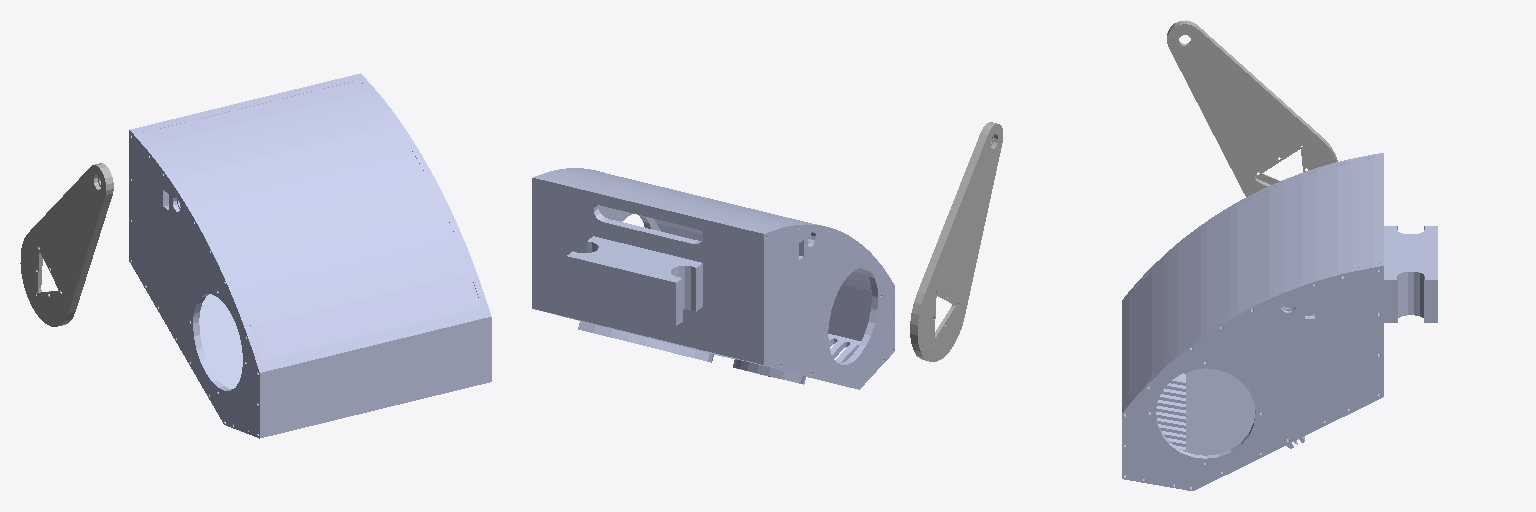
The robot description file, URDF, robot "sbr_urdf_modified1":
<?xml version="1.0" encoding="utf-8"?>
<!-- This URDF was automatically created by SolidWorks to URDF Exporter! Originally created by [author] ([email redacted]) 
     Commit Version: 1.6.0-4-g7f85cfe  Build Version: 1.6.7995.38578
     For more information, please see http://wiki.ros.org/sw_urdf_exporter -->
<robot
  name="sbr_urdf_modified1">
  <link
    name="base_link">
    <inertial>
      <origin
        xyz="-2.7656E-05 0.2277 0.058361"
        rpy="0 0 0" />
      <mass
        value="6.0193" />
      <inertia
        ixx="0.056171"
        ixy="6.0708E-07"
        ixz="-1.5535E-06"
        iyy="0.063954"
        iyz="-0.01956"
        izz="0.079553" />
    </inertial>
    <visual>
      <origin
        xyz="0 0 0"
        rpy="0 0 0" />
      <geometry>
        <mesh
          filename="package://sbr_urdf_modified1/meshes/base_link.STL" />
      </geometry>
      <material
        name="">
        <color
          rgba="0.79216 0.81961 0.93333 1" />
      </material>
    </visual>
    <collision>
      <origin
        xyz="0 0 0"
        rpy="0 0 0" />
      <geometry>
        <mesh
          filename="package://sbr_urdf_modified1/meshes/base_link.STL" />
      </geometry>
    </collision>
  </link>
  <link
    name="cont_1">
    <inertial>
      <origin
        xyz="-0.0059438 -0.050574 -0.071771"
        rpy="0 0 0" />
      <mass
        value="0.33847" />
      <inertia
        ixx="0.0029734"
        ixy="-1.3483E-06"
        ixz="-1.9134E-06"
        iyy="0.0018709"
        iyz="-0.001064"
        izz="0.0011107" />
    </inertial>
    <visual>
      <origin
        xyz="0 0 0"
        rpy="0 0 0" />
      <geometry>
        <mesh
          filename="package://sbr_urdf_modified1/meshes/cont_1.STL" />
      </geometry>
      <material
        name="">
        <color
          rgba="0.74902 0.74902 0.74902 1" />
      </material>
    </visual>
    <collision>
      <origin
        xyz="0 0 0"
        rpy="0 0 0" />
      <geometry>
        <mesh
          filename="package://sbr_urdf_modified1/meshes/cont_1.STL" />
      </geometry>
    </collision>
  </link>
  <joint
    name="cont_1j"
    type="revolute">
    <origin
      xyz="-0.197 0.11544 0.1"
      rpy="0 0 0" />
    <parent
      link="base_link" />
    <child
      link="cont_1" />
    <axis
      xyz="1 0 0" />
    <limit
      lower="-1.57"
      upper="1.57"
      effort="200"
      velocity="3" />
  </joint>
  <!-- <link
    name="Rleg_4">
    <inertial>
      <origin
        xyz="0.019595 -0.08507 0.087227"
        rpy="0 0 0" />
      <mass
        value="0.41509" />
      <inertia
        ixx="0.007393"
        ixy="-0.00012016"
        ixz="0.00012621"
        iyy="0.0038886"
        iyz="0.0035953"
        izz="0.0036625" />
    </inertial>
    <visual>
      <origin
        xyz="0 0 0"
        rpy="0 0 0" />
      <geometry>
        <mesh
          filename="package://sbr_urdf_modified1/meshes/Rleg_4.STL" />
      </geometry>
      <material
        name="">
        <color
          rgba="0.74902 0.74902 0.74902 1" />
      </material>
    </visual>
    <collision>
      <origin
        xyz="0 0 0"
        rpy="0 0 0" />
      <geometry>
        <mesh
          filename="package://sbr_urdf_modified1/meshes/Rleg_4.STL" />
      </geometry>
    </collision>
  </link>
  <joint
    name="Rleg_4j"
    type="revolute">
    <origin
      xyz="-0.012 -0.144 -0.20436"
      rpy="0 0 0" />
    <parent
      link="cont_1" />
    <child
      link="Rleg_4" />
    <axis
      xyz="1 0 0" />
    <limit
      lower="-1.57"
      upper="1.57"
      effort="0"
      velocity="0" />
  </joint>
  <link
    name="cran_2">
    <inertial>
      <origin
        xyz="-0.00068276 -0.073465 -0.043739"
        rpy="0 0 0" />
      <mass
        value="0.12244" />
      <inertia
        ixx="0.00053017"
        ixy="-7.3414E-06"
        ixz="-4.272E-06"
        iyy="0.00015583"
        iyz="-0.00022067"
        izz="0.00039566" />
    </inertial>
    <visual>
      <origin
        xyz="0 0 0"
        rpy="0 0 0" />
      <geometry>
        <mesh
          filename="package://sbr_urdf_modified1/meshes/cran_2.STL" />
      </geometry>
      <material
        name="">
        <color
          rgba="0.74902 0.74902 0.74902 1" />
      </material>
    </visual>
    <collision>
      <origin
        xyz="0 0 0"
        rpy="0 0 0" />
      <geometry>
        <mesh
          filename="package://sbr_urdf_modified1/meshes/cran_2.STL" />
      </geometry>
    </collision>
  </link>

  <transmission name="cont_1">
  <type>transmission_interface/SimpleTra
    name="cran_2j"
    type="revolute">
    <origin
      xyz="-0.195 0.22979 0.16409"
      rpy="3.1416 0 3.1416" />
    <parent
      link="base_link" />
    <child
      link="cran_2" />
    <axis
      xyz="1 0 0" />
    <limit
      lower="-1.57"

  <transmission name="cont_1">
  <type>transmission_interface/SimpleTra
        xyz="0.019595 -0.15432 0.15937"
        rpy="0 0 0" />
      <mass
        value="0.41509" />
      <inertia
        ixx="0.007393"
        ixy="-0.00012016"
        ixz="0.00012621"
        iyy="0.0038886"
        iyz="0.0035953"
        izz="0.0036625" />
    </inertial>
    <visual>
      <origin
        xyz="0 0 0"
        rpy="0 0 0" />
      <geometry>
        <mesh
          filename="package://sbr_urdf_modified1/meshes/Rleg_3.STL" />
      </geometry>
      <material
        name="">
        <color
          rgba="0.74902 0.74902 0.74902 1" />
      </material>
    </visual>
    <collision>
      <origin
        xyz="0 0 0"
        rpy="0 0 0" />
      <geometry>
        <mesh
          filename="package://sbr_urdf_modified1/meshes/Rleg_3.STL" />
      </geometry>
    </collision>
  </link>
  <joint
    name="Rleg_3j"
    type="revolute">
    <origin
      xyz="-0.01 -0.18911 -0.11242"
      rpy="0 0 0" />
    <parent
      link="cran_2" />
    <child
      link="Rleg_3" />
    <axis
      xyz="1 0 0" />
    <limit
      lower="-1.57"
      upper="1.57"
      effort="0"
      velocity="0" />
  </joint>
  <link
    name="cont_6">
    <inertial>
      <origin
        xyz="-0.18685 0.10309 0.05865"
        rpy="0 0 0" />
      <mass
        value="6.3577" />
      <inertia
        ixx="0.059144"
        ixy="-9.9635E-07"
        ixz="1.5188E-07"
        iyy="0.065514"
        iyz="-0.018433"
        izz="0.080974" />
    </inertial>
    <visual>
      <origin
        xyz="0 0 0"
        rpy="0 0 0" />
      <geometry>
        <mesh
          filename="package://sbr_urdf_modified1/meshes/cont_6.STL" />
      </geometry>
      <material
        name="">
        <color
          rgba="0.74902 0.74902 0.74902 1" />
      </material>
    </visual>
    <collision>
      <origin
        xyz="0 0 0"
        rpy="0 0 0" />
      <geometry>
        <mesh
          filename="package://sbr_urdf_modified1/meshes/cont_6.STL" />
      </geometry>
    </collision>
  </link>
  <joint
    name="cont_6j"
    type="revolute">
    <origin
      xyz="0.197 0.11544 0"
      rpy="0 0 0" />
    <parent
      link="base_link" />
    <child
      link="cont_6" />
    <axis
      xyz="1 0 0" />
    <limit
      lower="-1.57"
      upper="1.57"
      effort="200"
      velocity="3" />
  </joint>
  <link
    name="Lleg_9">
    <inertial>
      <origin
        xyz="0.019595 -0.097984 -0.07242"
        rpy="0 0 0" />
      <mass
        value="0.41509" />
      <inertia
        ixx="0.007393"
        ixy="-0.00013888"
        ixz="-0.00010527"
        iyy="0.0027421"
        iyz="-0.0034454"
        izz="0.004809" />
    </inertial>
    <visual>
      <origin
        xyz="0 0 0"
        rpy="0 0 0" />
      <geometry>
        <mesh
          filename="package://sbr_urdf_modified1/meshes/Lleg_9.STL" />
      </geometry>
      <material
        name="">
        <color
          rgba="0.74902 0.74902 0.74902 1" />
      </material>
    </visual>
    <collision>
      <origin
        xyz="0 0 0"
        rpy="0 0 0" />
      <geometry>
        <mesh
          filename="package://sbr_urdf_modified1/meshes/Lleg_9.STL" />
      </geometry>
    </collision>
  </link>
  <joint
    name="Lleg_9j"
    type="revolute">
    <origin
      xyz="-0.01 -0.17127 0.182"
      rpy="0 0 0" />
    <parent
      link="cont_6" />
    <child
      link="Lleg_9" />
    <axis
      xyz="-1 0 0" />
    <limit
      lower="-1.57"
      upper="1.57"
      effort="0"
      velocity="0" />
  </joint>
  <link
    name="cran_7">
    <inertial>
      <origin
        xyz="0.049317 -0.079947 0.03031"
        rpy="0 0 0" />
      <mass
        value="0.12244" />
      <inertia
        ixx="0.00053017"
        ixy="-7.9118E-06"
        ixz="3.0903E-06"
        iyy="8.7888E-05"
        iyz="0.00016669"
        izz="0.00046361" />
    </inertial>
    <visual>
      <origin
        xyz="0 0 0"
        rpy="0 0 0" />
      <geometry>
        <mesh
          filename="package://sbr_urdf_modified1/meshes/cran_7.STL" />
      </geometry>
      <material
        name="">
        <color
          rgba="0.74902 0.74902 0.74902 1" />
      </material>
    </visual>
    <collision>
      <origin
        xyz="0 0 0"
        rpy="0 0 0" />
      <geometry>
        <mesh
          filename="package://sbr_urdf_modified1/meshes/cran_7.STL" />
      </geometry>
    </collision>
  </link>
  <joint
    name="cran_7j"
    type="revolute">

  <transmission name="cont_1">
  <type>transmission_interface/SimpleTra
    <axis
      xyz="1 0 0" />
    <limit
      lower="-1.57"
      upper="1.57"
      effort="0"
      velocity="0" />
  </joint>
  <link
    name="Lleg_8">
    <inertial>
      <origin
        xyz="0.019595 -0.17793 -0.1325"
        rpy="0 0 0" />
      <mass
        value="0.41509" />
      <inertia
        ixx="0.007393"
        ixy="-0.00013888"
        ixz="-0.00010527"
        iyy="0.0027421"
        iyz="-0.0034454"
        izz="0.004809" />
    </inertial>
    <visual>
      <origin
        xyz="0 0 0"
        rpy="0 0 0" />
      <geometry>
        <mesh
          filename="package://sbr_urdf_modified1/meshes/Lleg_8.STL" />
      </geometry>
      <material
        name="">
        <color
          rgba="0.74902 0.74902 0.74902 1" />
      </material>
    </visual>
    <collision>
      <origin
        xyz="0 0 0"
        rpy="0 0 0" />
      <geometry>
        <mesh
          filename="package://sbr_urdf_modified1/meshes/Lleg_8.STL" />
      </geometry>
    </collision>
  </link>
  <joint
    name="Lleg_8j"
    type="revolute">
    <origin
      xyz="0.042 -0.20566 0.078127"
      rpy="0 0 0" />
    <parent
      link="cran_7" />
    <child
      link="Lleg_8" />
    <axis
      xyz="-1 0 0" />
    <limit

  <transmission name="cont_1">
  <type>transmission_interface/SimpleTra
      effort="0"
      velocity="0" />
  </joint>
  <link
    name="left_wheel">
    <inertial>
      <origin
        xyz="0.080855 1.647E-05 -1.4491E-05"
        rpy="0 0 0" />
      <mass
        value="0.95801" />
      <inertia
        ixx="0.0027027"
        ixy="4.6869E-07"
        ixz="-3.4787E-07"
        iyy="0.0015854"
        iyz="-1.5648E-08"
        izz="0.0015853" />
    </inertial>
    <visual>
      <origin
        xyz="0 0 0"
        rpy="0 0 0" />
      <geometry>
        <mesh
          filename="package://sbr_urdf_modified1/meshes/left_wheel.STL" />
      </geometry>
      <material
        name="">
        <color
          rgba="0.79216 0.81961 0.93333 1" />
      </material>
    </visual>
    <collision>
      <origin
        xyz="0 0 0"
        rpy="0 0 0" />
      <geometry>
        <mesh
          filename="package://sbr_urdf_modified1/meshes/left_wheel.STL" />
      </geometry>
    </collision>
  </link>
  <joint
    name="left_wheel_j"
    type="continuous">
    <origin
      xyz="-0.17363 -0.21975 0.0060512"
      rpy="3.1416 0 3.1416" />
    <parent
      link="base_link" />
    <child
      link="left_wheel" />
    <axis
      xyz="1 0.00013999 -0.00011825" />
    <limit
      lower="-3.14"
      upper="3.14"
      effort="500"
      velocity="5" />
  </joint>
  <link
    name="right_wheel">
    <inertial>
      <origin
        xyz="-0.08085 0.00074554 -0.00055447"
        rpy="0 0 0" />
      <mass
        value="0.95801" />
      <inertia
        ixx="0.0027025"
        ixy="-1.0584E-05"
        ixz="7.6501E-06"
        iyy="0.0015855"
        iyz="-7.1042E-08"
        izz="0.0015854" />
    </inertial>
    <visual>
      <origin
        xyz="0 0 0"
        rpy="0 0 0" />
      <geometry>
        <mesh
          filename="package://sbr_urdf_modified1/meshes/right_wheel.STL" />
      </geometry>
      <material
        name="">
        <color
          rgba="0.79216 0.81961 0.93333 1" />
      </material>
    </visual>
    <collision>
      <origin
        xyz="0 0 0"
        rpy="0 0 0" />
      <geometry>
        <mesh
          filename="package://sbr_urdf_modified1/meshes/right_wheel.STL" />
      </geometry>
    </collision>
  </link>
  <joint
    name="right_wheel_j"
    type="continuous">
    <origin
      xyz="0.17588 -0.27674 0.016745"
      rpy="3.1416 0 3.1416" />
    <parent
      link="base_link" />
    <child
      link="right_wheel" />
    <axis
      xyz="1 0 0" />
    <limit
      lower="-3.14"
      upper="3.14"
      effort="500"
      velocity="5" />
  </joint> -->

  <transmission name="cont_1">
  <type>transmission_interface/SimpleTransmission</type>
  <joint name="cont_1j">
  <hardwareInterface>hardware_interface/PositionJointInterface</hardwareInterface>
  </joint>
  <actuator name="cont_1">
  <hardwareInterface>hardware_interface/PositionJointInterface</hardwareInterface>
  <mechanicalReduction>1</mechanicalReduction>
  </actuator>
  </transmission>
  <transmission name="Rleg_4">
  <type>transmission_interface/SimpleTransmission</type>
  <joint name="Rleg_4j">
  <hardwareInterface>hardware_interface/PositionJointInterface</hardwareInterface>
  </joint>
  <actuator name="Rleg_4">
  <hardwareInterface>hardware_interface/PositionJointInterface</hardwareInterface>
  <mechanicalReduction>1</mechanicalReduction>
  </actuator>
  </transmission>

  <transmission name="cran_2">
  <type>transmission_interface/SimpleTransmission</type>
  <joint name="cran_2j">
  <hardwareInterface>hardware_interface/PositionJointInterface</hardwareInterface>
  </joint>
  <actuator name="cran_2">
  <hardwareInterface>hardware_interface/PositionJointInterface</hardwareInterface>
  <mechanicalReduction>1</mechanicalReduction>
  </actuator>
  </transmission>

  <transmission name="Rleg_3">
  <type>transmission_interface/SimpleTransmission</type>
  <joint name="Rleg_3j">
  <hardwareInterface>hardware_interface/PositionJointInterface</hardwareInterface>
  </joint>
  <actuator name="Rleg_3">
  <hardwareInterface>hardware_interface/PositionJointInterface</hardwareInterface>
  <mechanicalReduction>1</mechanicalReduction>
  </actuator>
  </transmission>

  <transmission name="cont_6">
  <type>transmission_interface/SimpleTransmission</type>
  <joint name="cont_6j">
  <hardwareInterface>hardware_interface/PositionJointInterface</hardwareInterface>
  </joint>
  <actuator name="cont_6">
  <hardwareInterface>hardware_interface/PositionJointInterface</hardwareInterface>
  <mechanicalReduction>1</mechanicalReduction>
  </actuator>
  </transmission>

  <transmission name="Lleg_9">
  <type>transmission_interface/SimpleTransmission</type>
  <joint name="Lleg_9j">
  <hardwareInterface>hardware_interface/PositionJointInterface</hardwareInterface>
  </joint>
  <actuator name="Lleg_9">
  <hardwareInterface>hardware_interface/PositionJointInterface</hardwareInterface>
  <mechanicalReduction>1</mechanicalReduction>
  </actuator>
  </transmission>

  <transmission name="cran_7">
  <type>transmission_interface/SimpleTransmission</type>
  <joint name="cran_7j">
  <hardwareInterface>hardware_interface/PositionJointInterface</hardwareInterface>
  </joint>
  <actuator name="cran_7">
  <hardwareInterface>hardware_interface/PositionJointInterface</hardwareInterface>
  <mechanicalReduction>1</mechanicalReduction>
  </actuator>
  </transmission>
  
  <transmission name="Lleg_8">
  <type>transmission_interface/SimpleTransmission</type>
  <joint name="Lleg_8j">
  <hardwareInterface>hardware_interface/PositionJointInterface</hardwareInterface>
  </joint>
  <actuator name="Lleg_8">
  <hardwareInterface>hardware_interface/PositionJointInterface</hardwareInterface>
  <mechanicalReduction>1</mechanicalReduction>
  </actuator>
  </transmission>
  
  <transmission name="left_wheel">
  <type>transmission_interface/SimpleTransmission</type>
  <joint name="left_wheel_j">
  <hardwareInterface>hardware_interface/PositionJointInterface</hardwareInterface>
  </joint>
  <actuator name="left_wheel">
  <hardwareInterface>hardware_interface/PositionJointInterface</hardwareInterface>
  <mechanicalReduction>1</mechanicalReduction>
  </actuator>
  </transmission>

  <transmission name="right_wheel">
  <type>transmission_interface/SimpleTransmission</type>
  <joint name="right_wheel_j">
  <hardwareInterface>hardware_interface/PositionJointInterface</hardwareInterface>
  </joint>
  <actuator name="right_wheel">
  <hardwareInterface>hardware_interface/PositionJointInterface</hardwareInterface>
  <mechanicalReduction>1</mechanicalReduction>
  </actuator>
  </transmission>

  <gazebo>
<plugin name="control" filename="libgazebo_ros_control.so">
<robotNamespace>/</robotNamespace>
</plugin>
</gazebo>

<gazebo reference="cont_1">
  <selfCollide>true</selfCollide>
</gazebo>

<gazebo reference="Rleg_4">
  <selfCollide>true</selfCollide>
</gazebo>

<gazebo reference="cran_2">
  <selfCollide>true</selfCollide>
</gazebo>

<gazebo reference="Rleg_3">
  <selfCollide>true</selfCollide>
</gazebo>

<gazebo reference="cont_6">
  <selfCollide>true</selfCollide>
</gazebo>

<gazebo reference="Lleg_9">
  <selfCollide>true</selfCollide>
</gazebo>

<gazebo reference="cran_7">
  <selfCollide>true</selfCollide>
</gazebo>

<gazebo reference="Lleg_8">
  <selfCollide>true</selfCollide>
</gazebo>

<gazebo reference="left_wheel">
  <selfCollide>true</selfCollide>
</gazebo>

<gazebo reference="right_wheel">
  <selfCollide>true</selfCollide>
</gazebo>
</robot>

--- Facts derived from the render (not from the file) ---
The picture shows the robot from 3 angles, left to right: view 1: azimuth 30°, elevation 25°; view 2: azimuth 150°, elevation 25°; view 3: azimuth 270°, elevation 25°; orthographic projection.
Robot: sbr_urdf_modified1 — 2 links, 1 joints (1 revolute); root link base_link; default pose: all joints at 0.
Visible links, largest first — view 1: base_link, cont_1; view 2: base_link, cont_1; view 3: base_link, cont_1.
Link boxes in pixels (<box>): base_link: <box>129,73,491,438</box>; cont_1: <box>20,163,113,326</box>; base_link: <box>532,168,894,389</box>; cont_1: <box>910,122,1002,361</box>; base_link: <box>1122,153,1437,490</box>; cont_1: <box>1167,20,1337,196</box>.
Bounding box of the posed robot: 0.579 × 0.4364 × 0.4482 m (x, y, z).
Meshes: 2 distinct files referenced, 2 mesh visuals loaded (2 binary STL).
